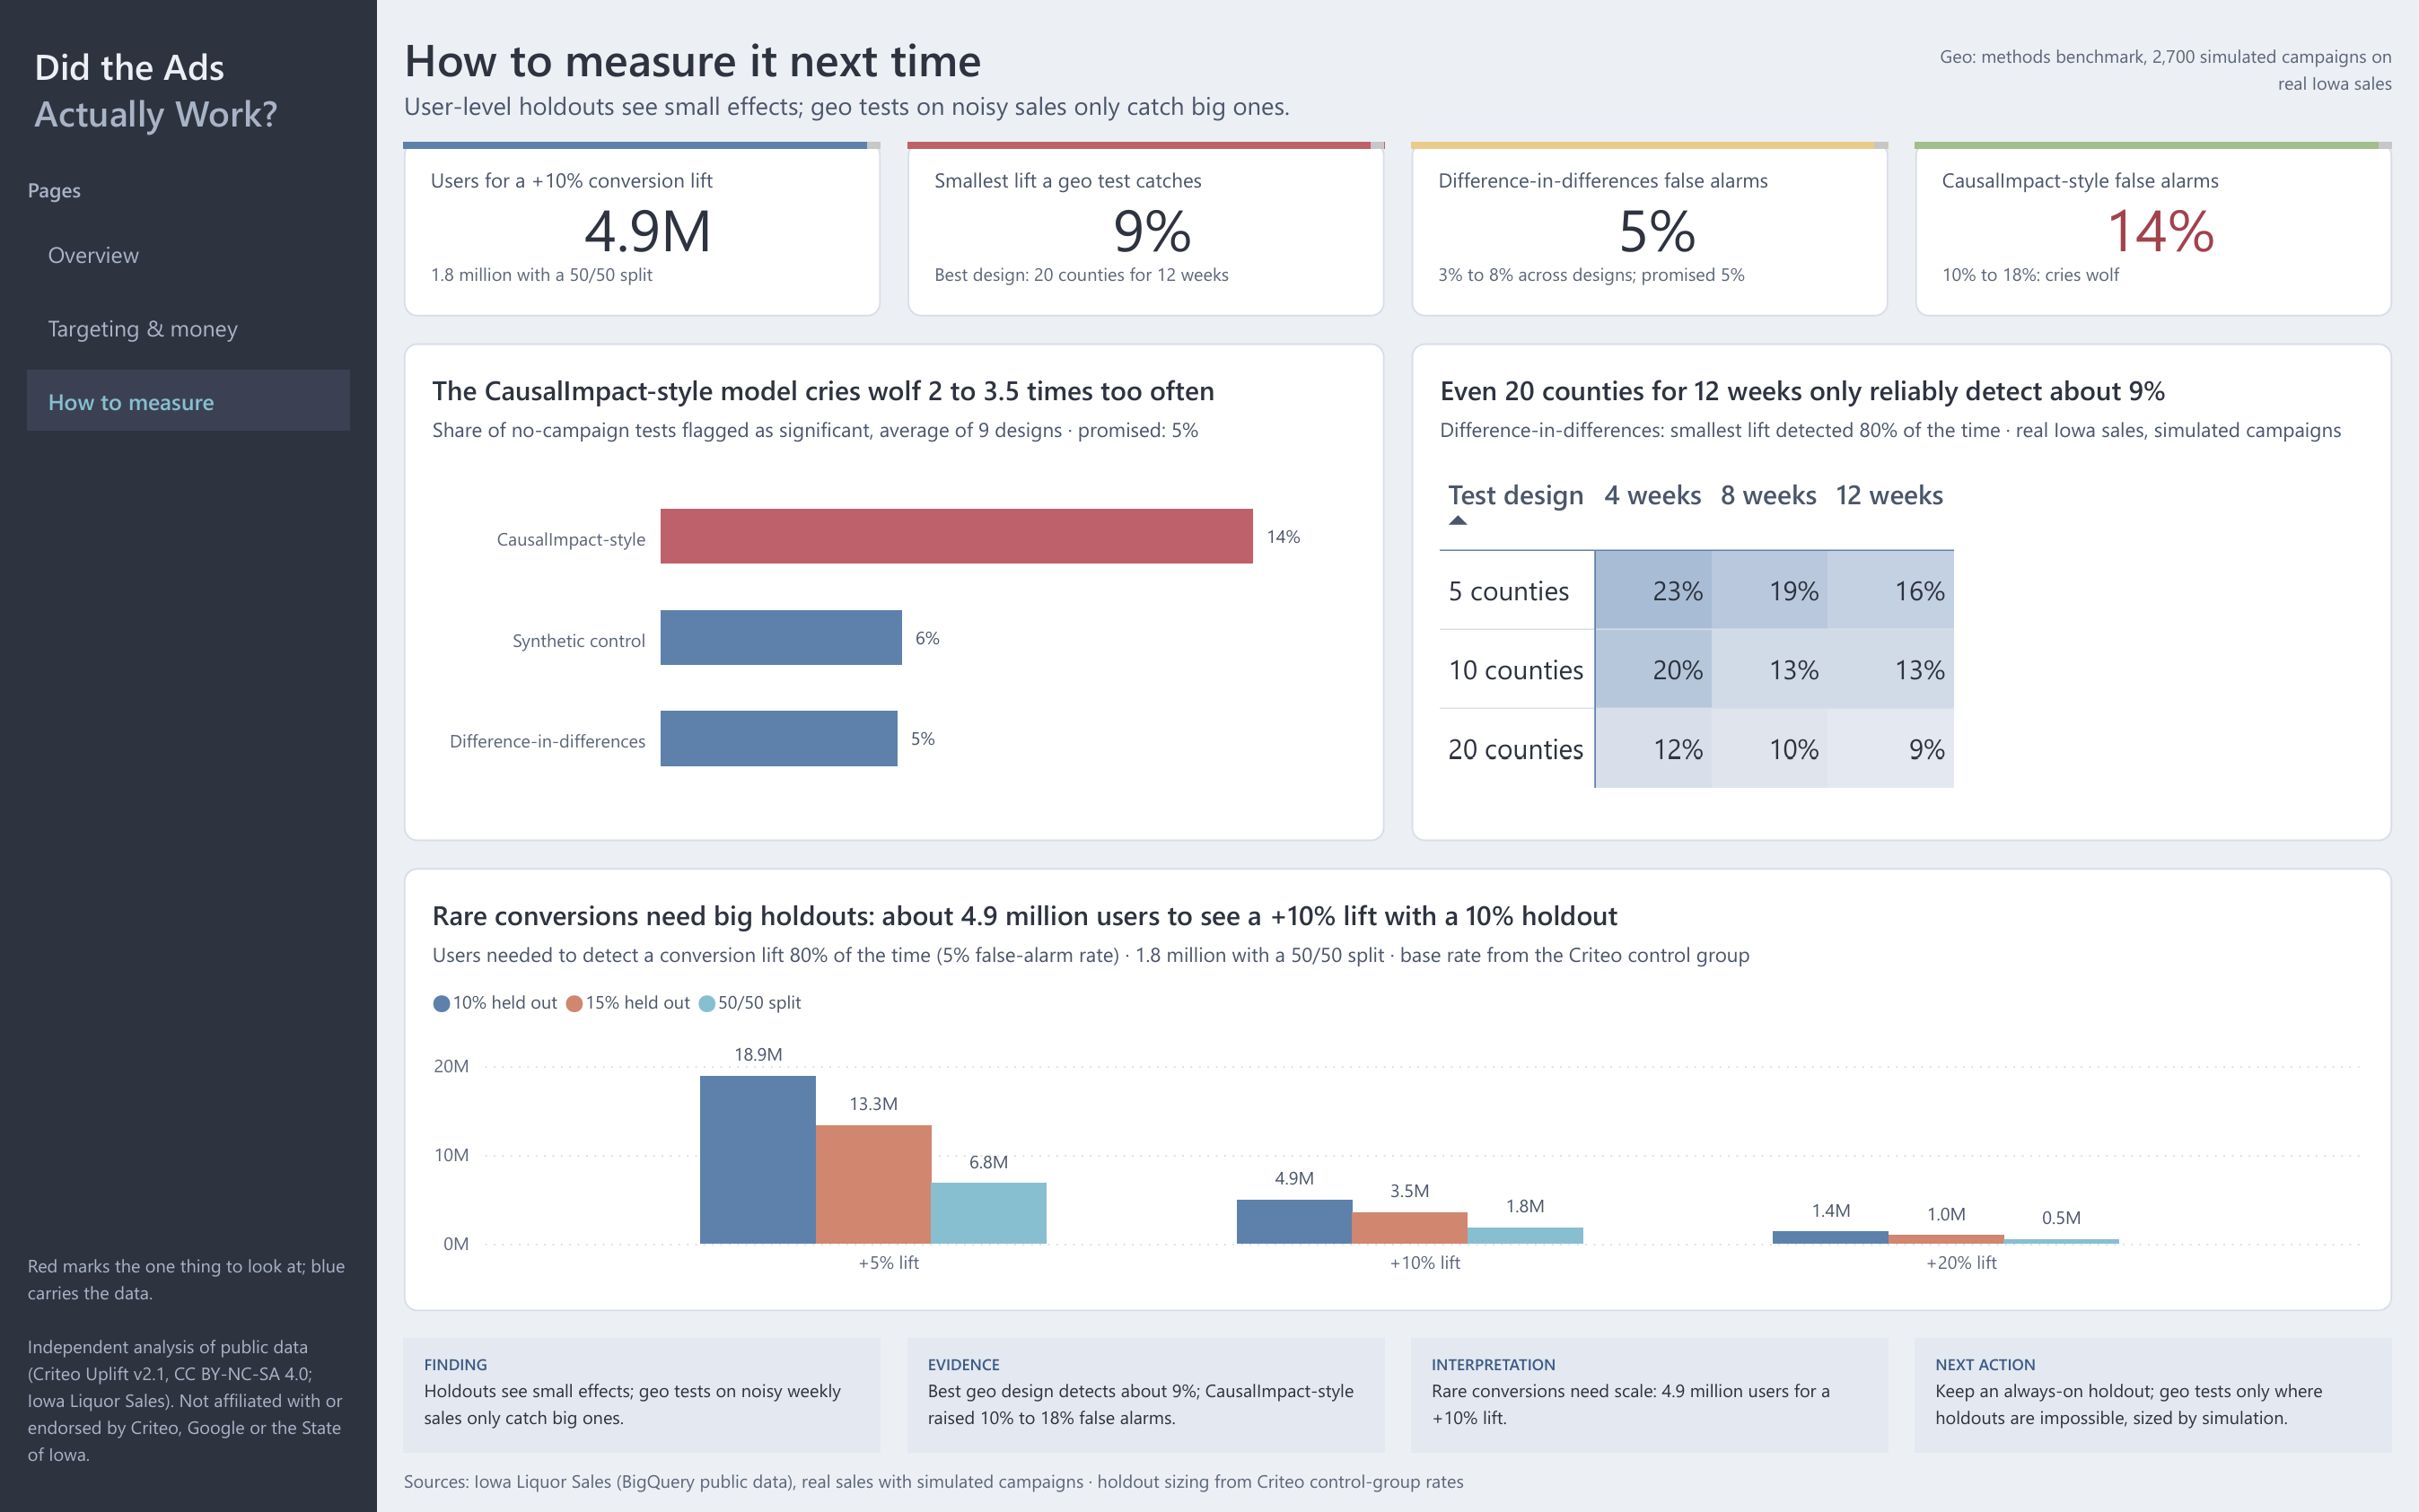

This screenshot's page, from the dashboard's own definition file:
{"tool":"powerbi","page":{"name":"How to measure","canvas":[1440,900],"ordinal":2},"visuals":[{"type":"textbox","box":[0,0,224,900],"z":0},{"type":"textbox","box":[16,104,192,24],"z":100},{"type":"actionButton","box":[16,132,192,36],"z":200},{"type":"actionButton","box":[16,176,192,36],"z":300},{"type":"actionButton","box":[16,220,192,36],"z":400},{"type":"textbox","box":[16,744,192,140],"z":500},{"type":"textbox","box":[240,16,884,56],"z":600},{"type":"textbox","box":[1140,16,284,56],"z":700},{"type":"textbox","box":[240,84,284,104],"z":800},{"type":"textbox","box":[240,84,284,4],"z":900},{"type":"card","title":"Users for a +10% conversion lift","fields":{"Values":["_Measures.Holdout Users for 10pct Lift"]},"box":[240,90,284,64],"z":1000},{"type":"textbox","box":[240,154,284,28],"z":1100},{"type":"textbox","box":[540,84,284,104],"z":1200},{"type":"textbox","box":[540,84,284,4],"z":1300},{"type":"card","title":"Smallest lift a geo test catches","fields":{"Values":["_Measures.Smallest Geo Lift"]},"box":[540,90,284,64],"z":1400},{"type":"textbox","box":[540,154,284,28],"z":1500},{"type":"textbox","box":[840,84,284,104],"z":1600},{"type":"textbox","box":[840,84,284,4],"z":1700},{"type":"card","title":"Difference-in-differences false alarms","fields":{"Values":["_Measures.DiD False Alarms"]},"box":[840,90,284,64],"z":1800},{"type":"textbox","box":[840,154,284,28],"z":1900},{"type":"textbox","box":[1140,84,284,104],"z":2000},{"type":"textbox","box":[1140,84,284,4],"z":2100},{"type":"card","title":"CausalImpact-style false alarms","fields":{"Values":["_Measures.CausalImpact False Alarms"]},"box":[1140,90,284,64],"z":2200},{"type":"textbox","box":[1140,154,284,28],"z":2300},{"type":"clusteredBarChart","title":"The CausalImpact-style model cries wolf 2 to 3.5 times too often","fields":{"Category":["geo_designs.method"],"Y":["_Measures.False Alarm Rate"]},"box":[240,204,584,296],"z":2400},{"type":"pivotTable","title":"Even 20 counties for 12 weeks only reliably detect about 9%","fields":{"Columns":["geo_designs.weeks_label"],"Rows":["geo_designs.counties_label"],"Values":["_Measures.Smallest Lift DiD"]},"box":[840,204,584,296],"z":2500},{"type":"clusteredColumnChart","title":"Rare conversions need big holdouts: about 4.9 million users to see a +10% lift with a 10% holdout","fields":{"Category":["holdout_users.target_label"],"Series":["holdout_users.holdout_label"],"Y":["_Measures.Users Needed"]},"box":[240,516,1184,264],"z":2600},{"type":"textbox","box":[240,796,284,68],"z":2700},{"type":"textbox","box":[540,796,284,68],"z":2800},{"type":"textbox","box":[840,796,284,68],"z":2900},{"type":"textbox","box":[1140,796,284,68],"z":3000},{"type":"textbox","box":[240,872,1184,20],"z":3100}]}

Visuals, with their boxes on the page's 1440x900 design canvas (x1, y1, x2, y2). These are canvas units, not pixel positions in the 2419x1512 screenshot, which may show the page scaled, cropped or inside an application window:
textbox: <box>0,0,224,900</box>
textbox: <box>16,104,208,128</box>
actionButton: <box>16,132,208,168</box>
actionButton: <box>16,176,208,212</box>
actionButton: <box>16,220,208,256</box>
textbox: <box>16,744,208,884</box>
textbox: <box>240,16,1124,72</box>
textbox: <box>1140,16,1424,72</box>
textbox: <box>240,84,524,188</box>
textbox: <box>240,84,524,88</box>
"Users for a +10% conversion lift" card: <box>240,90,524,154</box>
textbox: <box>240,154,524,182</box>
textbox: <box>540,84,824,188</box>
textbox: <box>540,84,824,88</box>
"Smallest lift a geo test catches" card: <box>540,90,824,154</box>
textbox: <box>540,154,824,182</box>
textbox: <box>840,84,1124,188</box>
textbox: <box>840,84,1124,88</box>
"Difference-in-differences false alarms" card: <box>840,90,1124,154</box>
textbox: <box>840,154,1124,182</box>
textbox: <box>1140,84,1424,188</box>
textbox: <box>1140,84,1424,88</box>
"CausalImpact-style false alarms" card: <box>1140,90,1424,154</box>
textbox: <box>1140,154,1424,182</box>
"The CausalImpact-style model cries wolf 2 to 3.5 times too often" clusteredBarChart: <box>240,204,824,500</box>
"Even 20 counties for 12 weeks only reliably detect about 9%" pivotTable: <box>840,204,1424,500</box>
"Rare conversions need big holdouts: about 4.9 million users to see a +10% lift with a 10% holdout" clusteredColumnChart: <box>240,516,1424,780</box>
textbox: <box>240,796,524,864</box>
textbox: <box>540,796,824,864</box>
textbox: <box>840,796,1124,864</box>
textbox: <box>1140,796,1424,864</box>
textbox: <box>240,872,1424,892</box>
